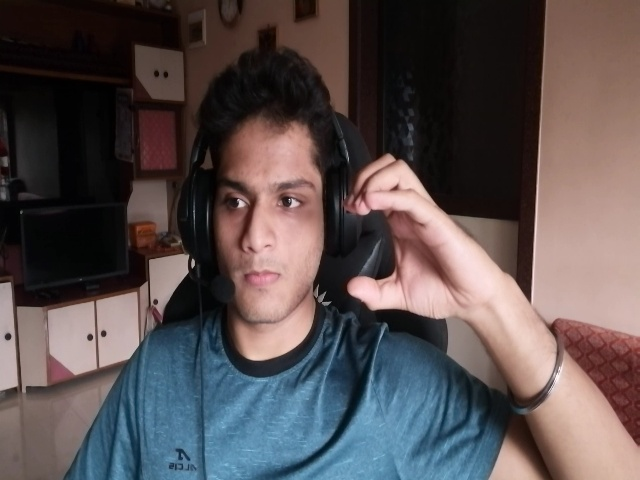C: (339, 151, 479, 320)
